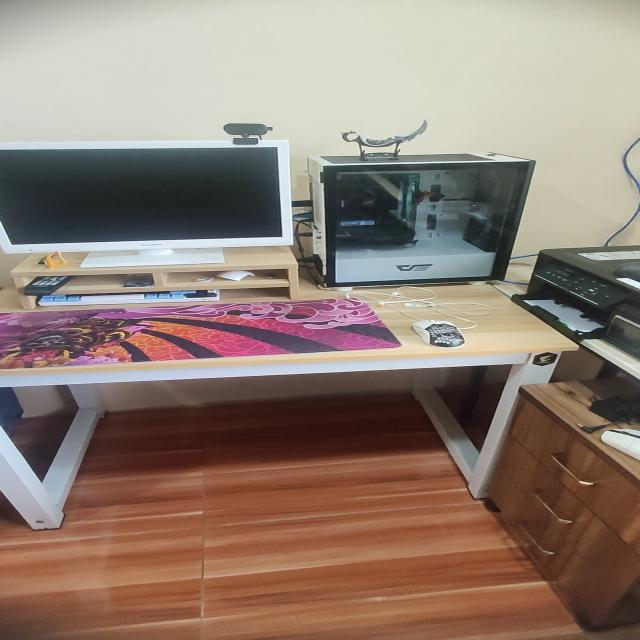table: (0, 269, 584, 533)
